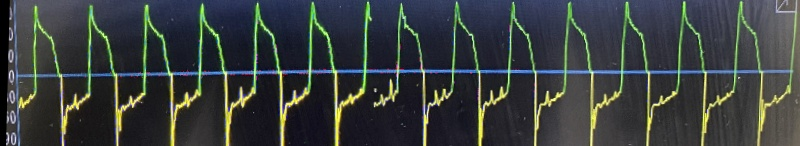hydrop_peepi: (5, 0, 797, 146)
